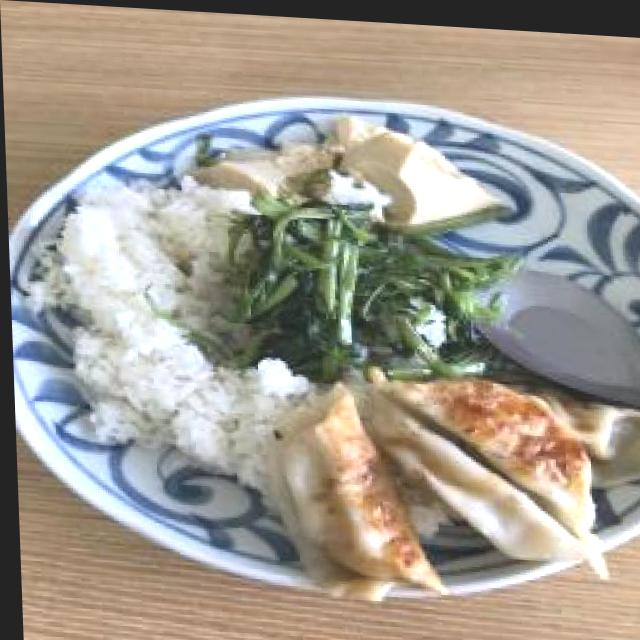fried_dumplings: (265, 370, 640, 601)
rice: (60, 171, 233, 441)
water_spinach: (256, 207, 440, 368)
